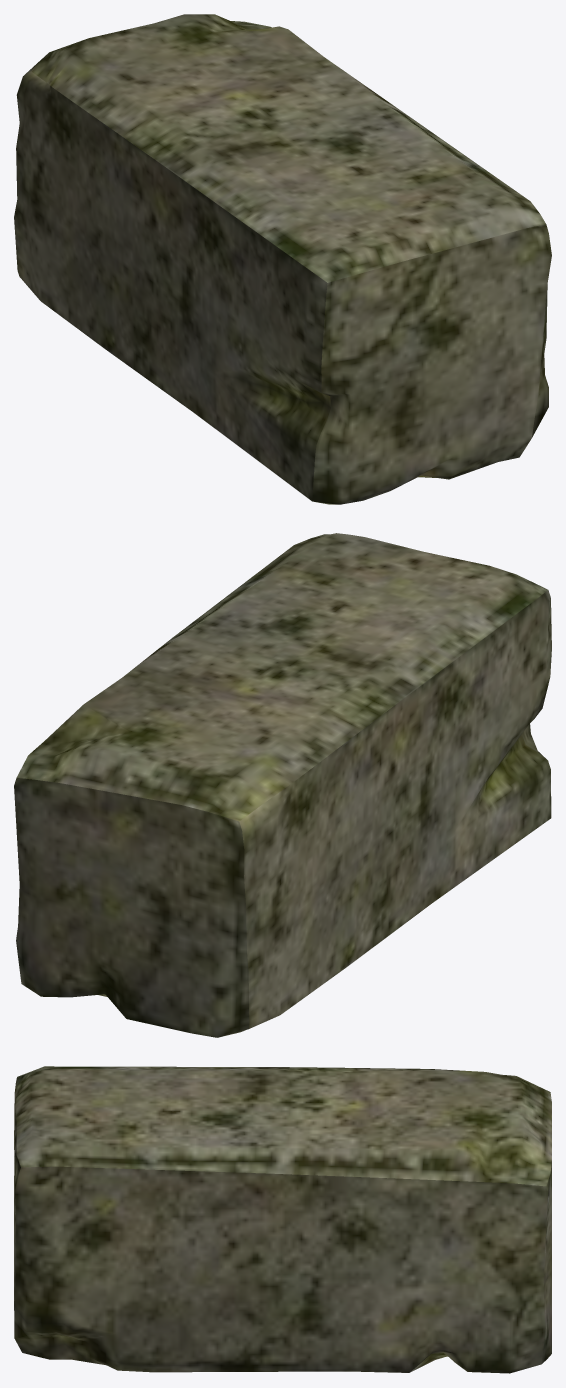
Rendered from rubble-pile.lod1.glb.
3 renders of one model, top to bottom at view 1: azimuth 30°, elevation 25°; view 2: azimuth 150°, elevation 25°; view 3: azimuth 270°, elevation 25°, orthographic. The views are drawn at different scales.
Visible parts, largest first — view 1: polySurface183_lambert1_0; view 2: polySurface183_lambert1_0; view 3: polySurface183_lambert1_0.
Part boxes in pixels (bbox=[...]): polySurface183_lambert1_0: bbox=[14, 14, 551, 504]; polySurface183_lambert1_0: bbox=[14, 533, 551, 1037]; polySurface183_lambert1_0: bbox=[14, 1066, 551, 1373].
Bounding box in the file's own units: 1.3 × 1.3 × 2.9.
Materials: 1 (1 with a texture image).
